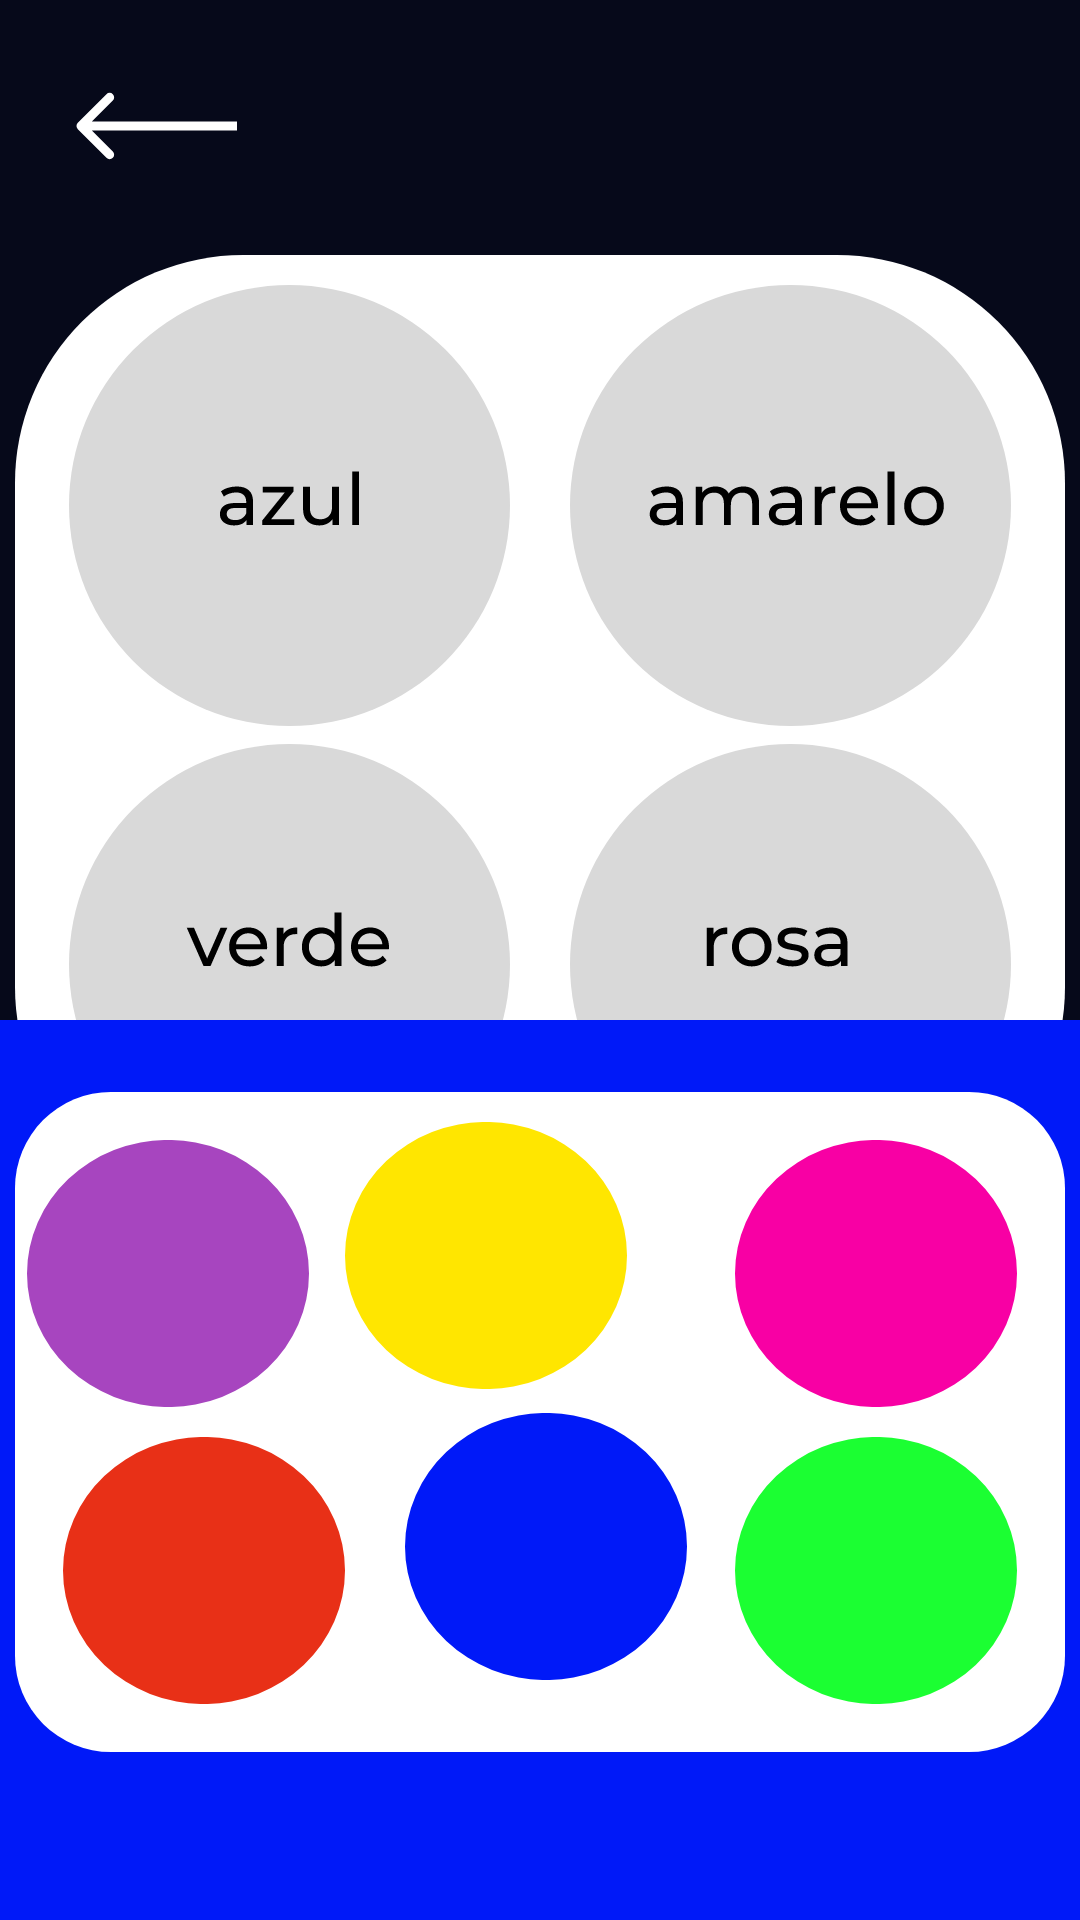

Where icons sit on this 1080*1920 app screen, as (left=x1, top=y1, right=x2, bottom=y2):
phases back arrow: (left=76, top=92, right=237, bottom=160)
